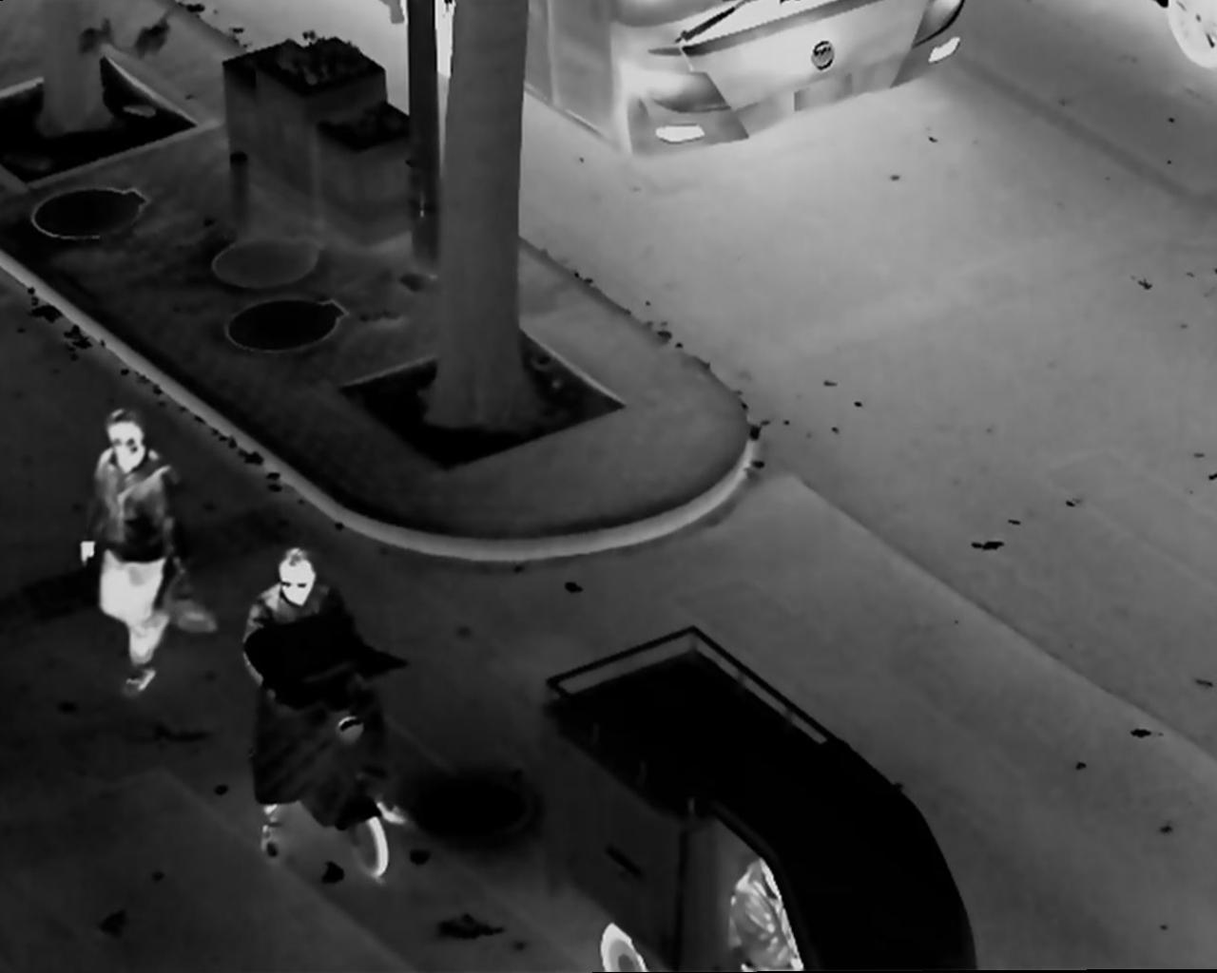person: (240, 541, 407, 859), (68, 403, 215, 697), (729, 852, 808, 973)
